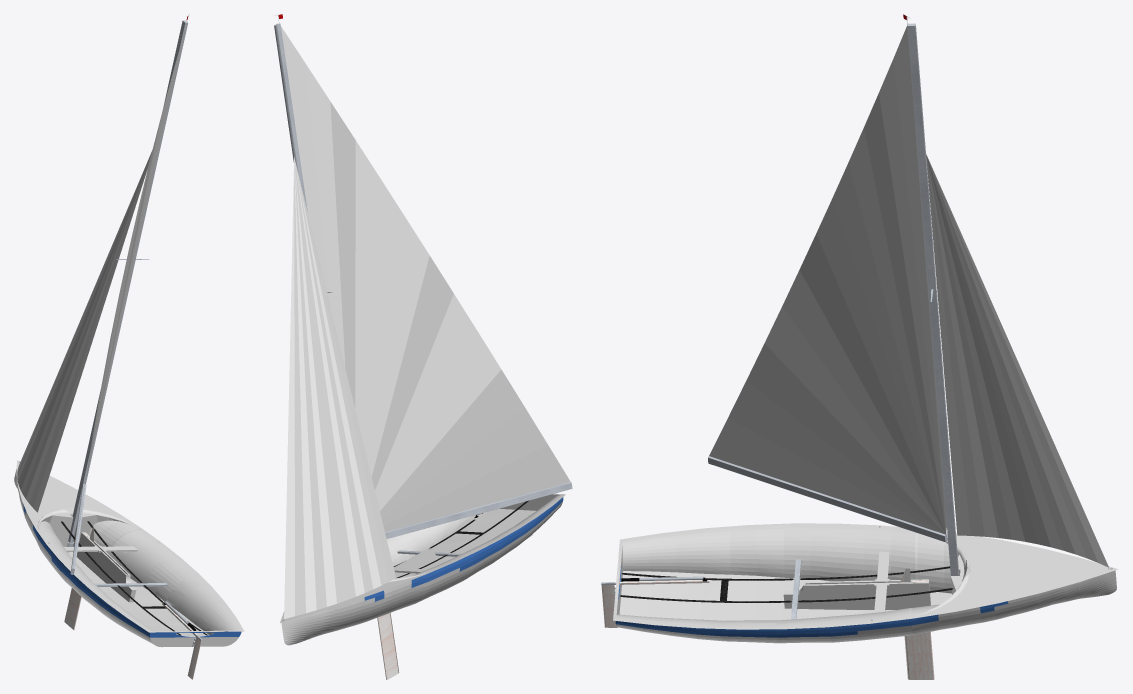
3 renders of one model, left to right at view 1: azimuth 30°, elevation 25°; view 2: azimuth 150°, elevation 25°; view 3: azimuth 270°, elevation 25°, orthographic. The views are drawn at different scales.
Parts seen in each view (by area): view 1: C-hull, _(Loose Entity); view 2: _(Loose Entity), C-hull; view 3: _(Loose Entity), C-hull.
Boxes of the visible parts, box(x1,y1,x2,y2) form: C-hull: box(14, 460, 244, 647); _(Loose Entity): box(17, 14, 202, 679); _(Loose Entity): box(274, 14, 572, 679); C-hull: box(280, 493, 565, 645); _(Loose Entity): box(601, 14, 1108, 679); C-hull: box(613, 523, 1117, 643).
Size of the model in its own units: 2.69 by 7.58 by 4.85.
Materials: 10 (4 with a texture image).
